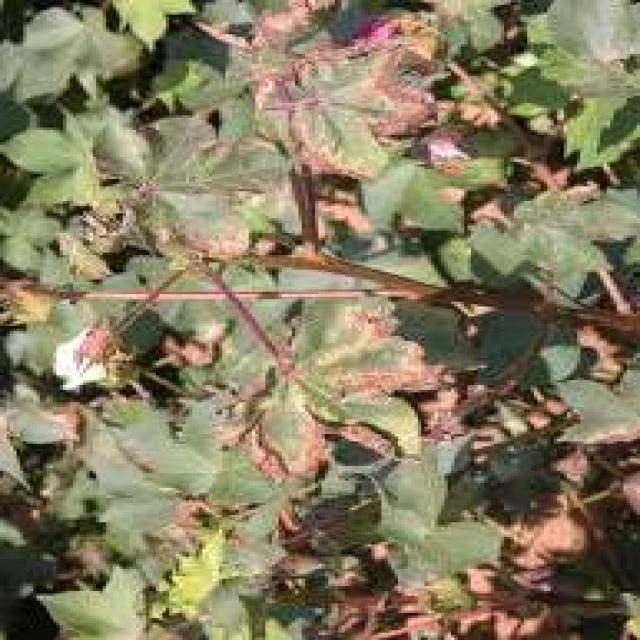Fusarium Wilt: (14, 6, 597, 595)
